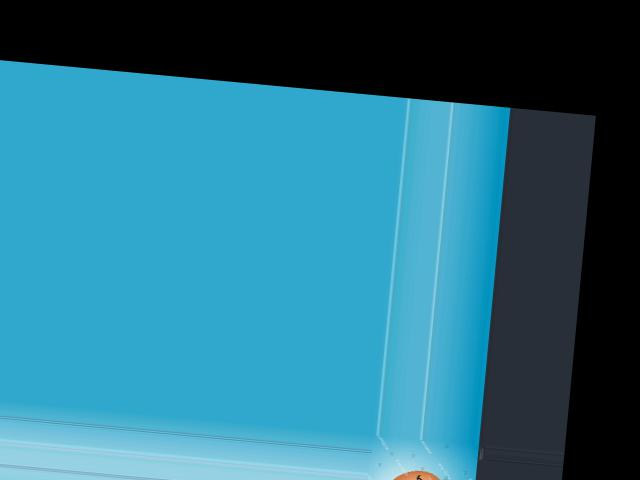egg: (385, 467, 448, 480)
